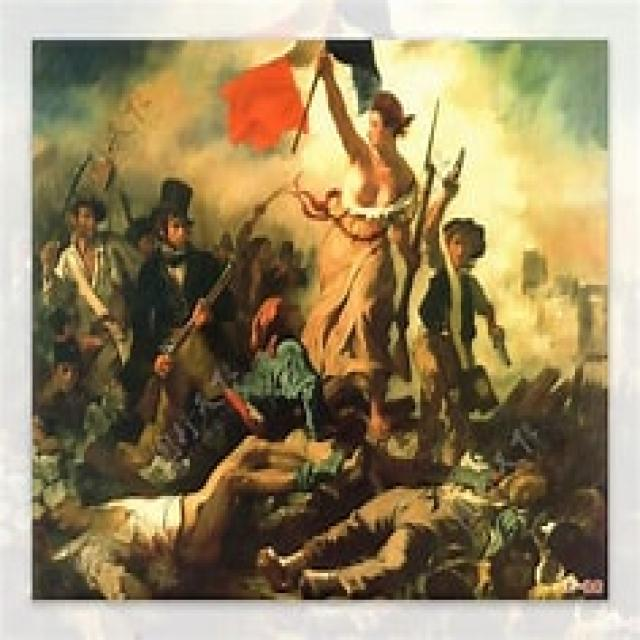libre: (33, 41, 607, 599)
